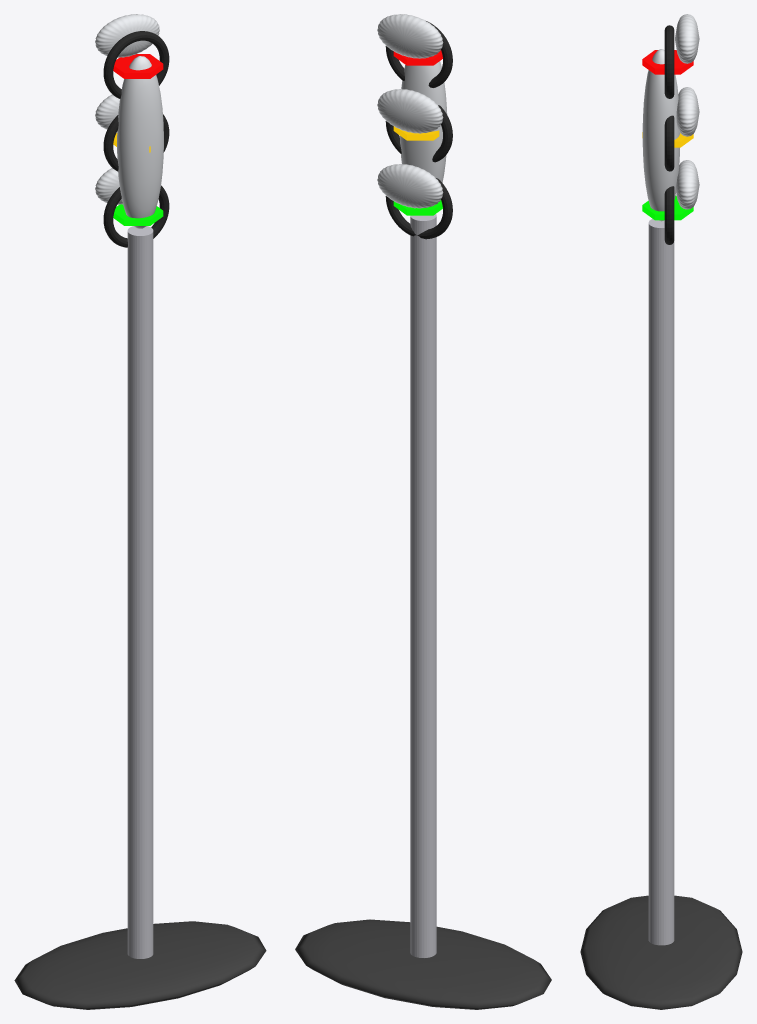
The picture shows the model from 3 angles, left to right: view 1: azimuth 30°, elevation 25°; view 2: azimuth 150°, elevation 25°; view 3: azimuth 270°, elevation 25°; orthographic projection. The views are drawn at different scales.
Parts seen in each view (by area): view 1: object 1, Cylinder.001, Torus, Torus.002, Cylinder.002, Torus.001, Cylinder.005, Cylinder.003; view 2: object 1, Cylinder.005, Cylinder.003, Cylinder.001, Torus.002, Torus, Torus.001; view 3: object 1, Cylinder.001, Cylinder.005, Cylinder.003, Torus, Torus.002, Torus.001, Cylinder.002, Cylinder.006.
Part boxes in pixels (x1,y1,x2,y2): object 1: (14, 56, 266, 1009); Cylinder.001: (95, 14, 159, 57); Torus: (103, 31, 169, 98); Torus.002: (103, 185, 169, 247); Cylinder.002: (113, 54, 163, 78); Torus.001: (103, 114, 169, 171); Cylinder.005: (95, 168, 122, 204); Cylinder.003: (95, 94, 119, 129); object 1: (295, 61, 551, 1009); Cylinder.005: (377, 164, 443, 208); Cylinder.003: (377, 89, 443, 133); Cylinder.001: (377, 14, 443, 58); Torus.002: (385, 178, 452, 239); Torus: (385, 21, 452, 87); Torus.001: (385, 105, 452, 162); object 1: (580, 49, 742, 1009); Cylinder.001: (675, 14, 699, 63); Cylinder.005: (676, 160, 699, 209); Cylinder.003: (676, 87, 699, 136); Torus: (664, 25, 674, 98); Torus.002: (664, 186, 674, 244); Torus.001: (664, 115, 674, 171); Cylinder.002: (642, 50, 693, 74); Cylinder.006: (642, 195, 693, 220).
Bounding box in the file's own units: 0.8395 × 3.24 × 0.5037.
